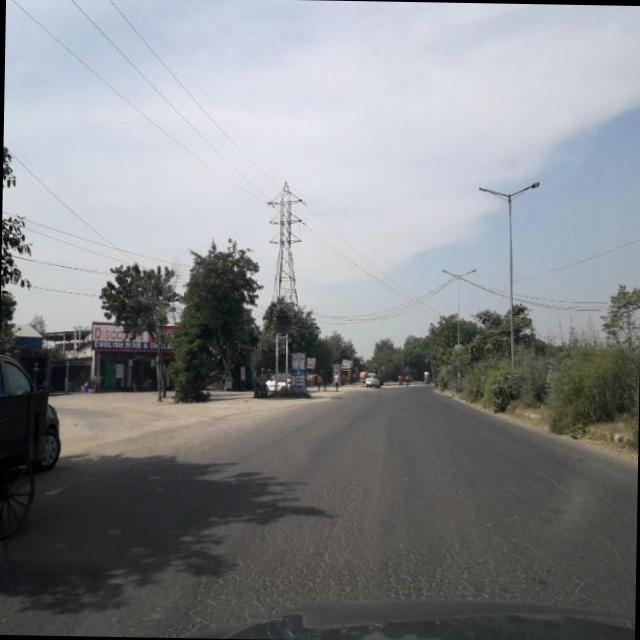crack: (185, 520, 635, 612)
